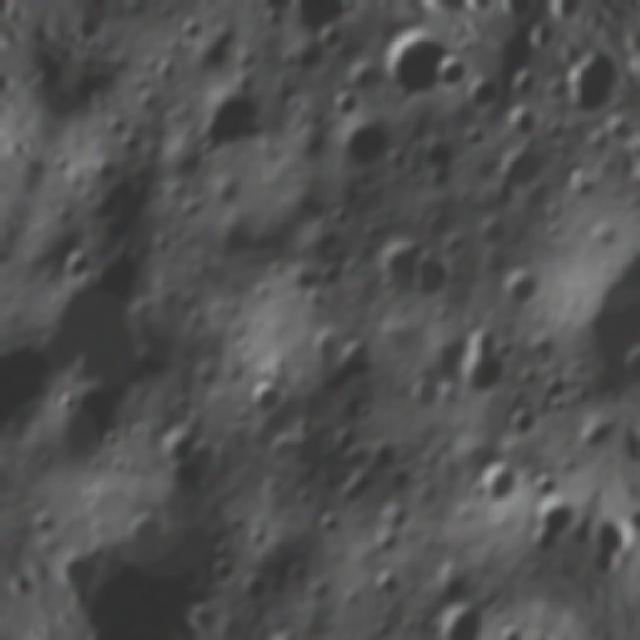crater: (369, 14, 463, 109), (452, 340, 518, 409), (405, 243, 467, 314), (465, 451, 529, 518), (113, 498, 182, 558), (424, 591, 499, 640), (330, 328, 385, 392), (490, 261, 547, 316), (234, 372, 288, 425), (302, 320, 352, 371), (429, 45, 473, 101), (502, 101, 552, 150), (53, 238, 101, 287), (158, 420, 205, 469), (323, 82, 371, 129), (402, 369, 448, 417), (500, 399, 548, 444), (460, 72, 505, 117), (368, 558, 412, 604), (525, 463, 567, 511), (470, 212, 515, 254), (205, 550, 246, 590), (308, 502, 347, 544), (506, 61, 546, 101), (318, 198, 358, 237), (25, 504, 63, 542), (148, 52, 186, 90), (174, 10, 212, 48), (111, 126, 151, 162), (456, 118, 495, 154), (98, 108, 136, 144), (254, 0, 306, 26), (132, 82, 166, 118), (48, 384, 82, 419), (339, 634, 426, 640), (216, 0, 284, 3)
